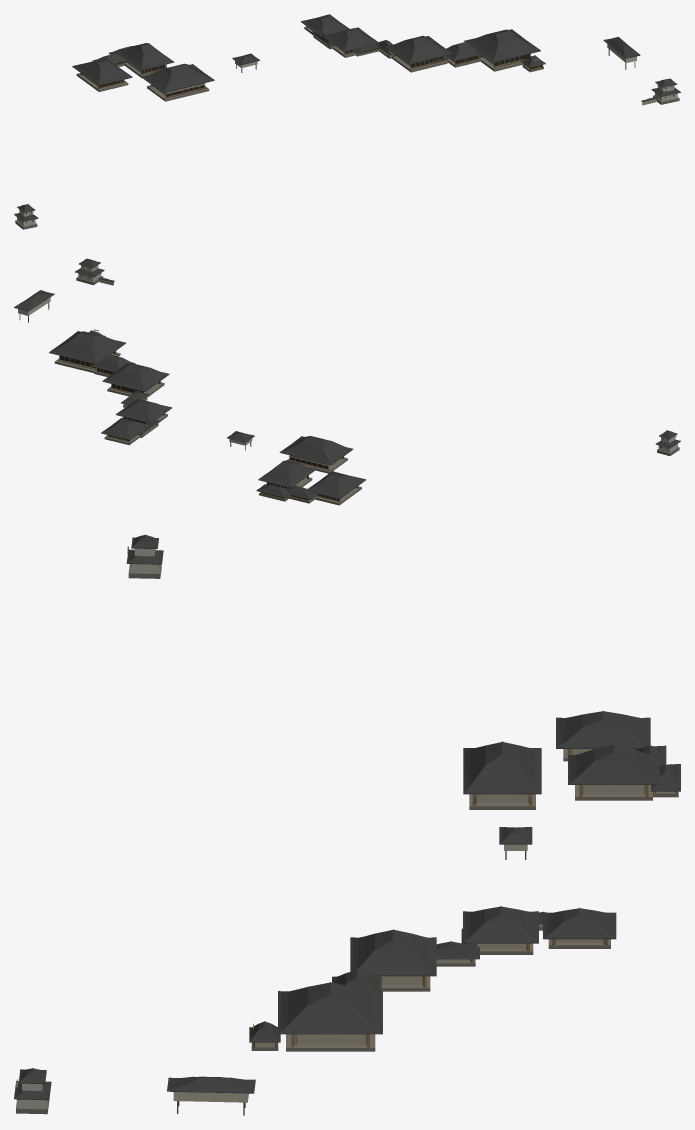
The model's file is nijo-castle.glb.
3 renders of one model, top to bottom at view 1: azimuth 30°, elevation 25°; view 2: azimuth 150°, elevation 25°; view 3: azimuth 270°, elevation 25°, orthographic. The views are drawn at different scales.
Size of the model in its own units: 498 by 19.82 by 254.
